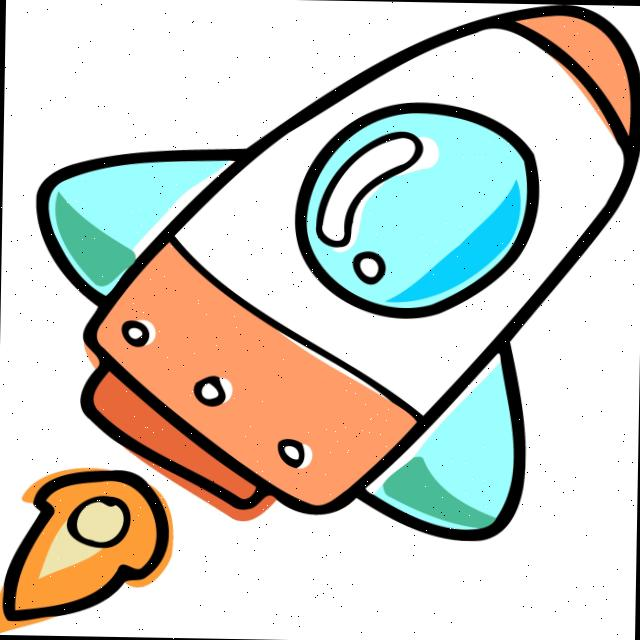rocket: (30, 4, 640, 548)
